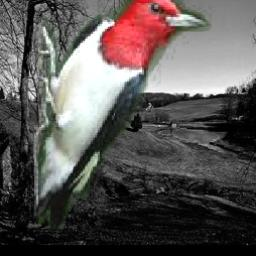Woodpecker: (28, 0, 213, 233)
